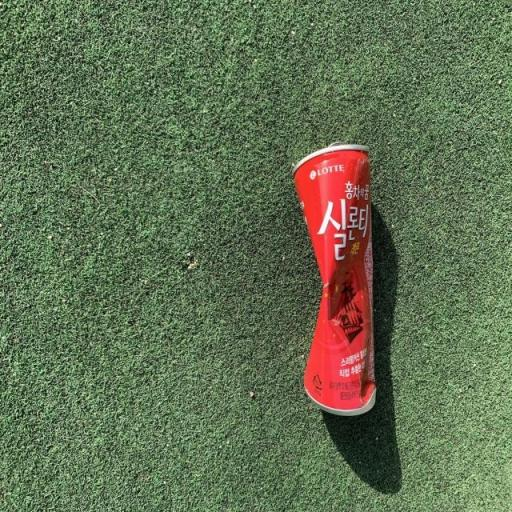metal: (277, 116, 405, 460)
